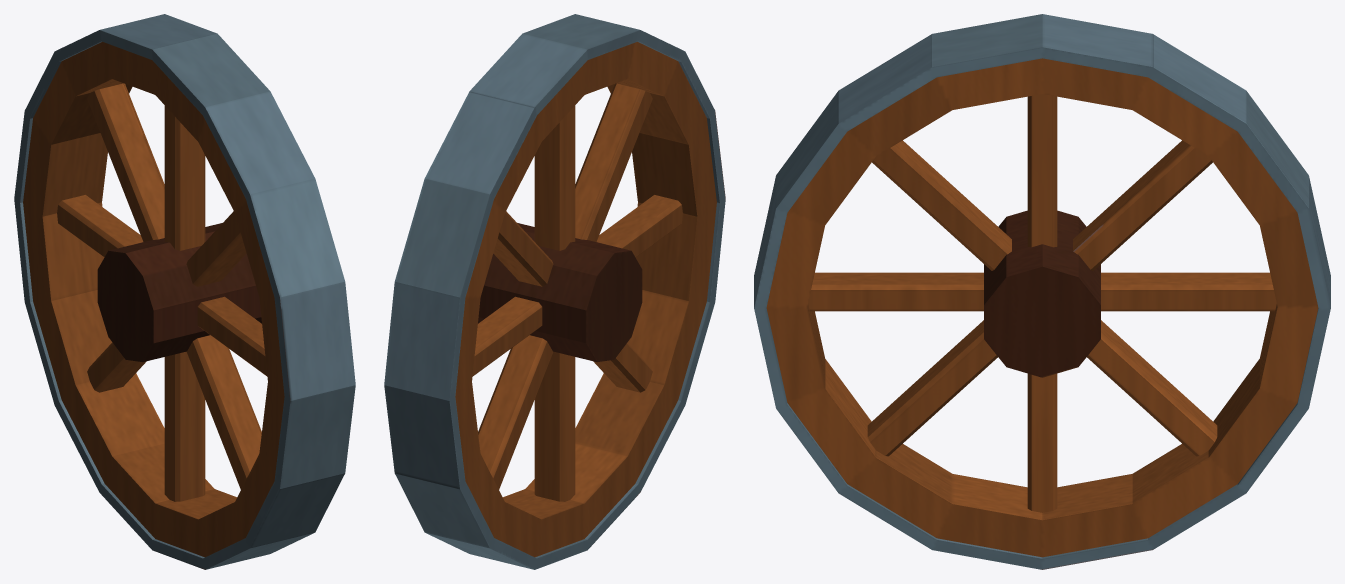
Rendered from TX_D16_Cart_Wheel.fbx.
The picture shows the model from 3 angles, left to right: view 1: azimuth 30°, elevation 25°; view 2: azimuth 150°, elevation 25°; view 3: azimuth 270°, elevation 25°; orthographic projection. The views are drawn at different scales.
Parts seen in each view (by area): view 1: TX_D16_Cart_Wheel; view 2: TX_D16_Cart_Wheel; view 3: TX_D16_Cart_Wheel.
Boxes of the visible parts, bbox=[...] form: TX_D16_Cart_Wheel: bbox=[14, 14, 355, 569]; TX_D16_Cart_Wheel: bbox=[384, 14, 725, 569]; TX_D16_Cart_Wheel: bbox=[754, 14, 1330, 569].
Size of the model in its own units: 0.28 by 1.13 by 1.13.
Materials: 3 (3 with a texture image).
